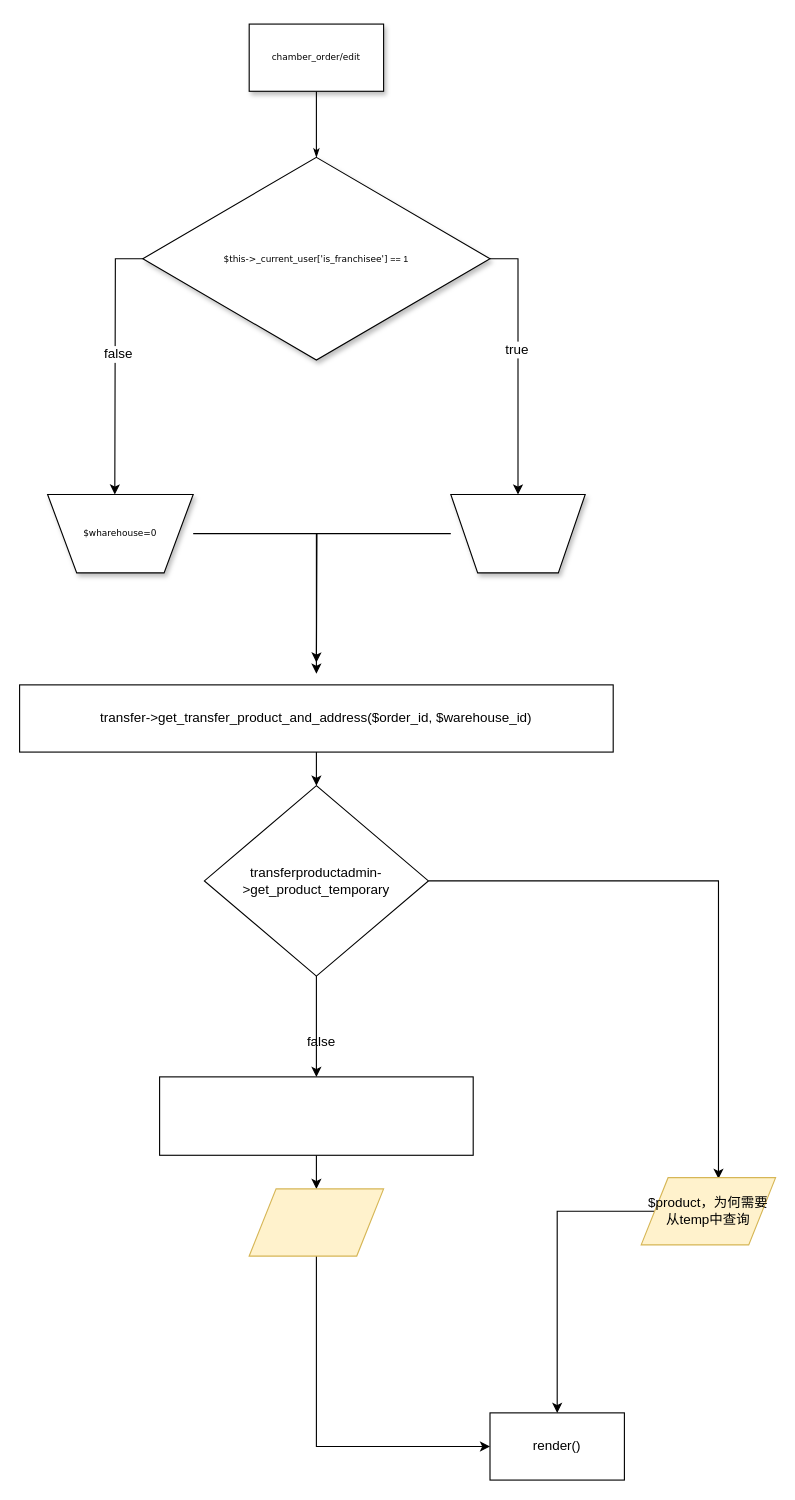
Some shapes in this 795 by 1500 pixel diagram are drawn without their labels. The shapes that lost their labels are listed below. From the top down, each one's centre as x and y in pixels, then its label:
At pixel 518 535: "$wharehouse=1".
At pixel 315 1115: "transfer->get_transfer_products($order_id);".
At pixel 316 1222: "product".
